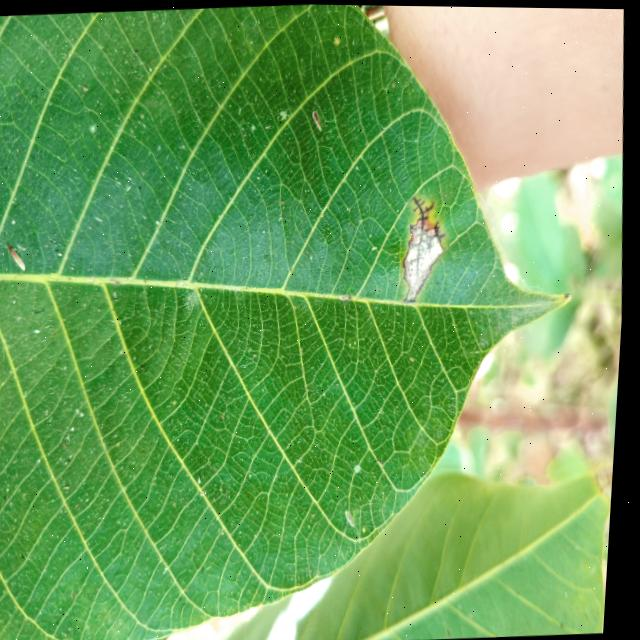Corynespora: (411, 195, 440, 271)
Leaf-Blight: (404, 234, 447, 301)
